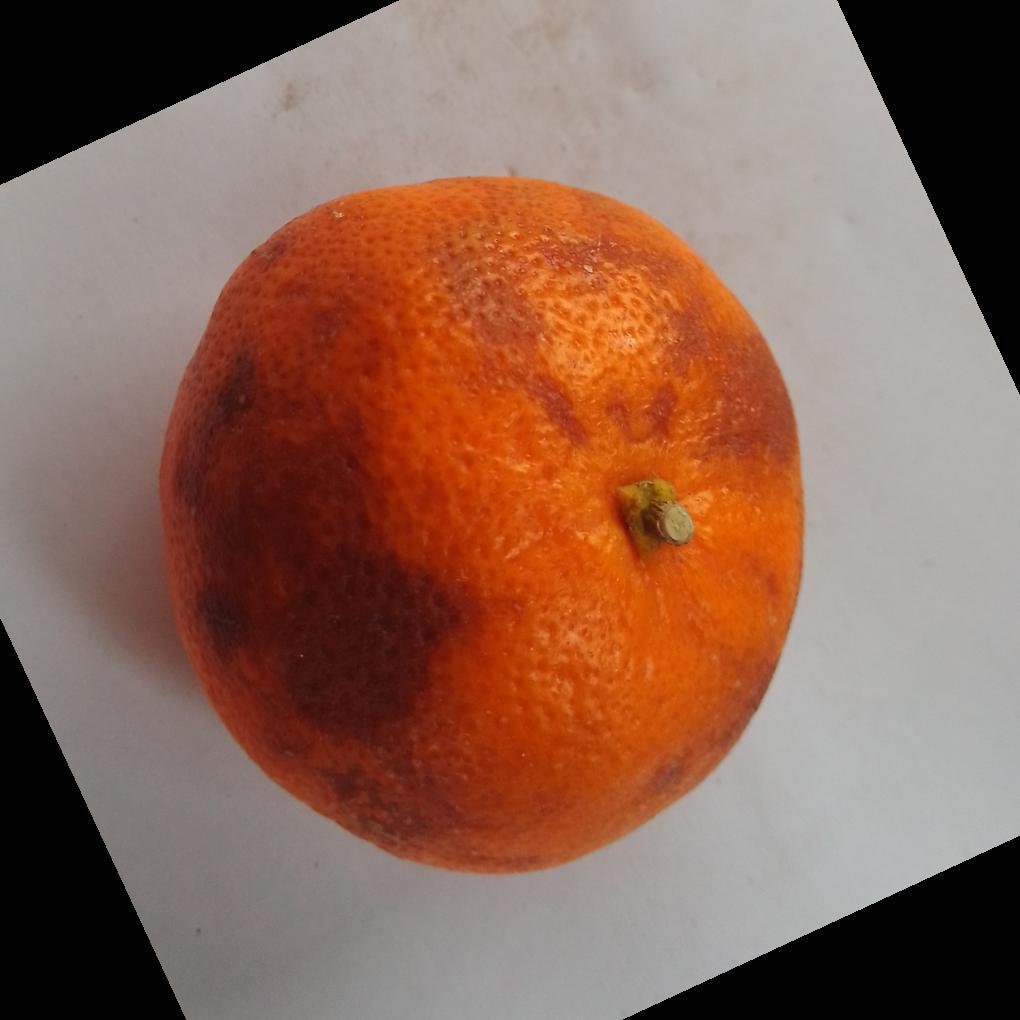FreshOrange: (155, 175, 808, 881)
